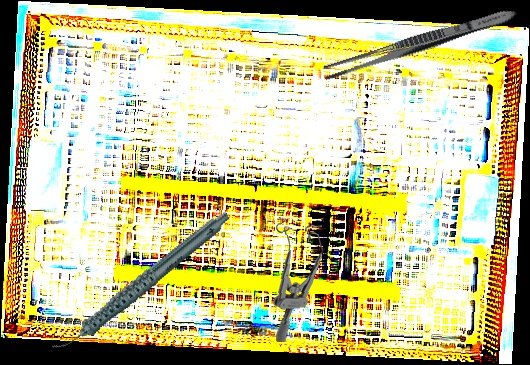Dressing Forceps: (319, 2, 520, 85)
Handpiece: (30, 210, 251, 355)
Speculum: (267, 213, 330, 343)
